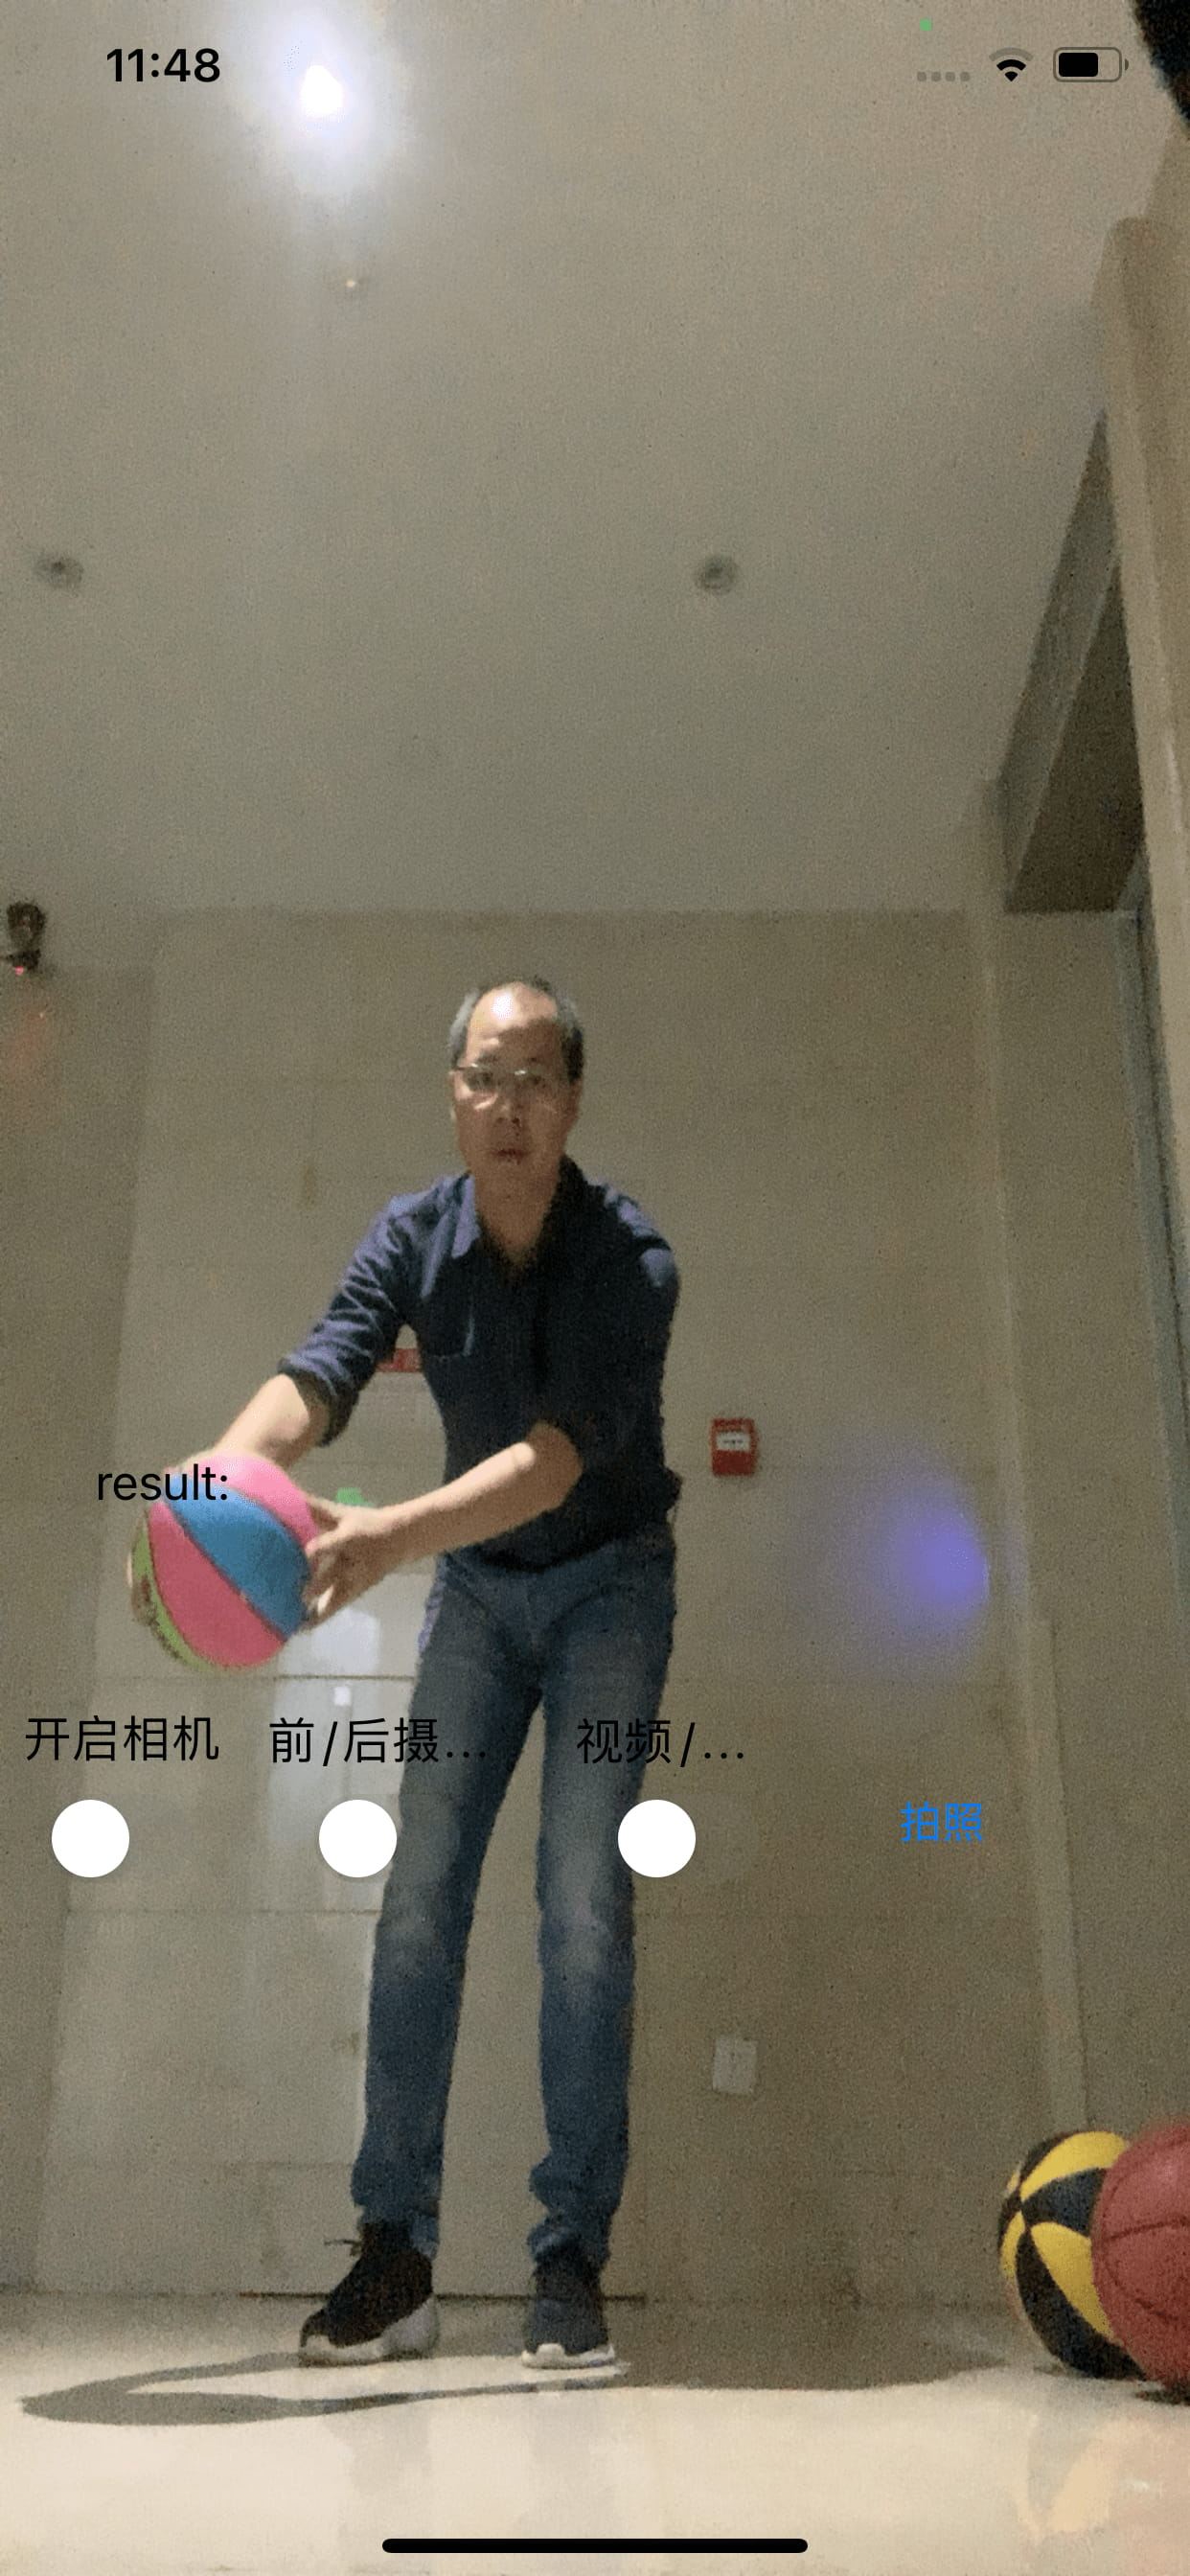ball: (135, 1441, 324, 1676), (999, 2127, 1134, 2382), (1098, 2132, 1190, 2399)
